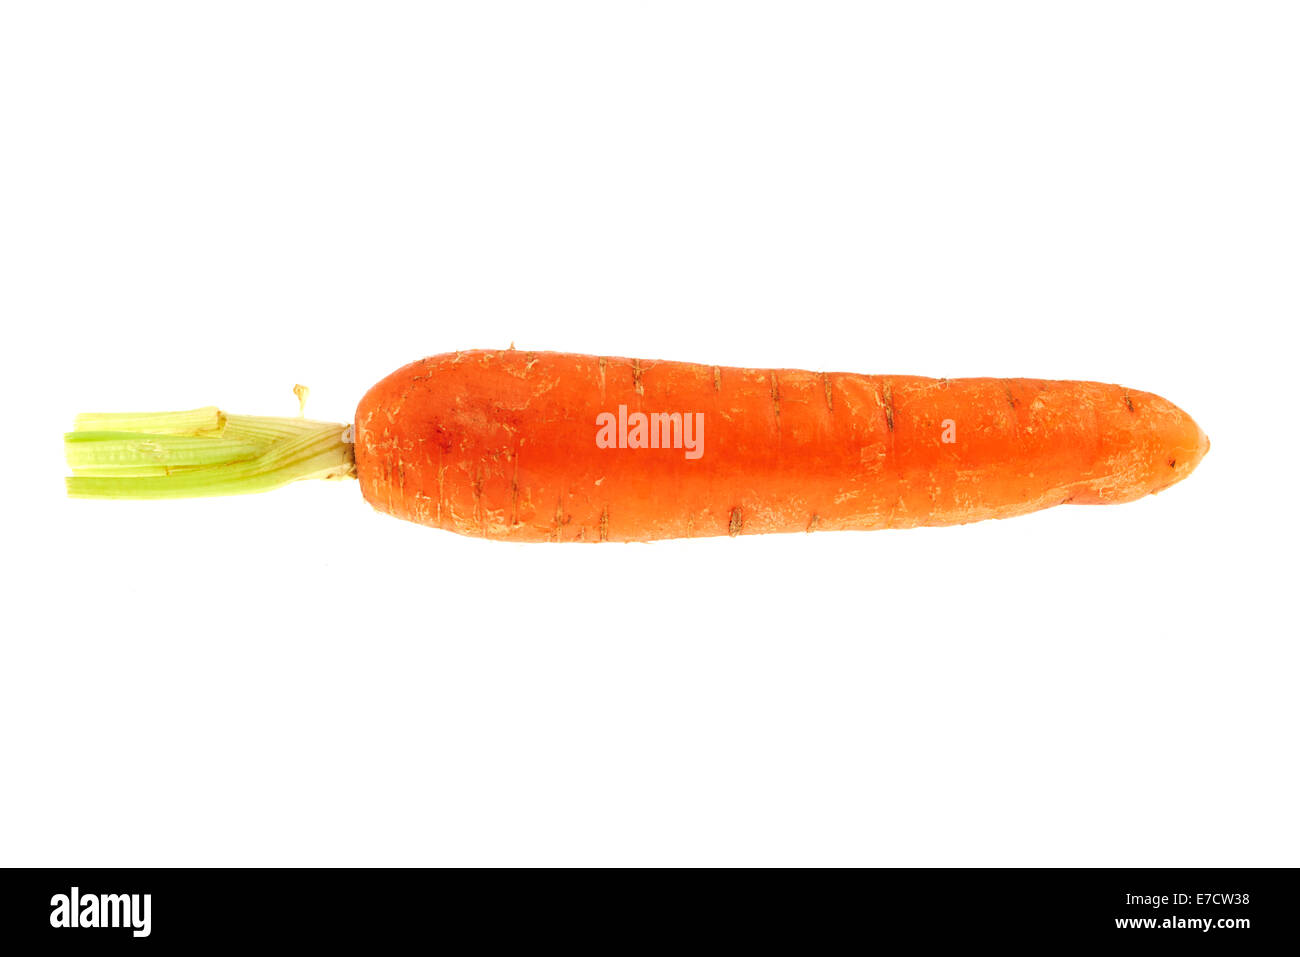carrot: (26, 302, 1300, 669)
